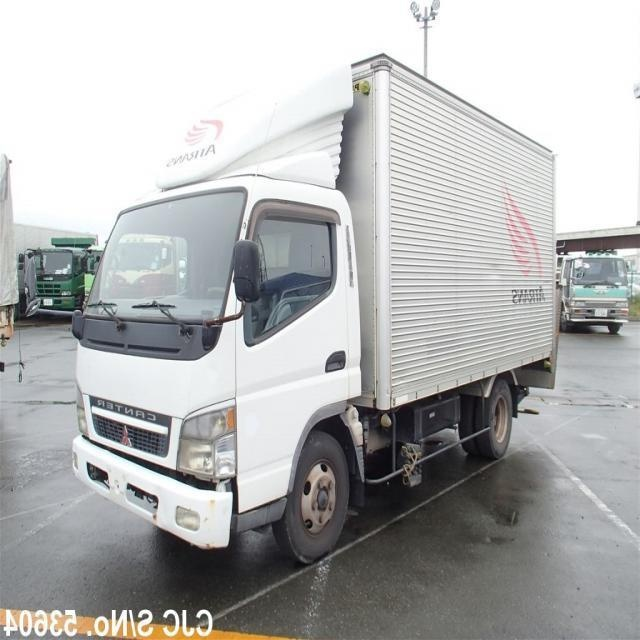Truck: (74, 54, 556, 564)
